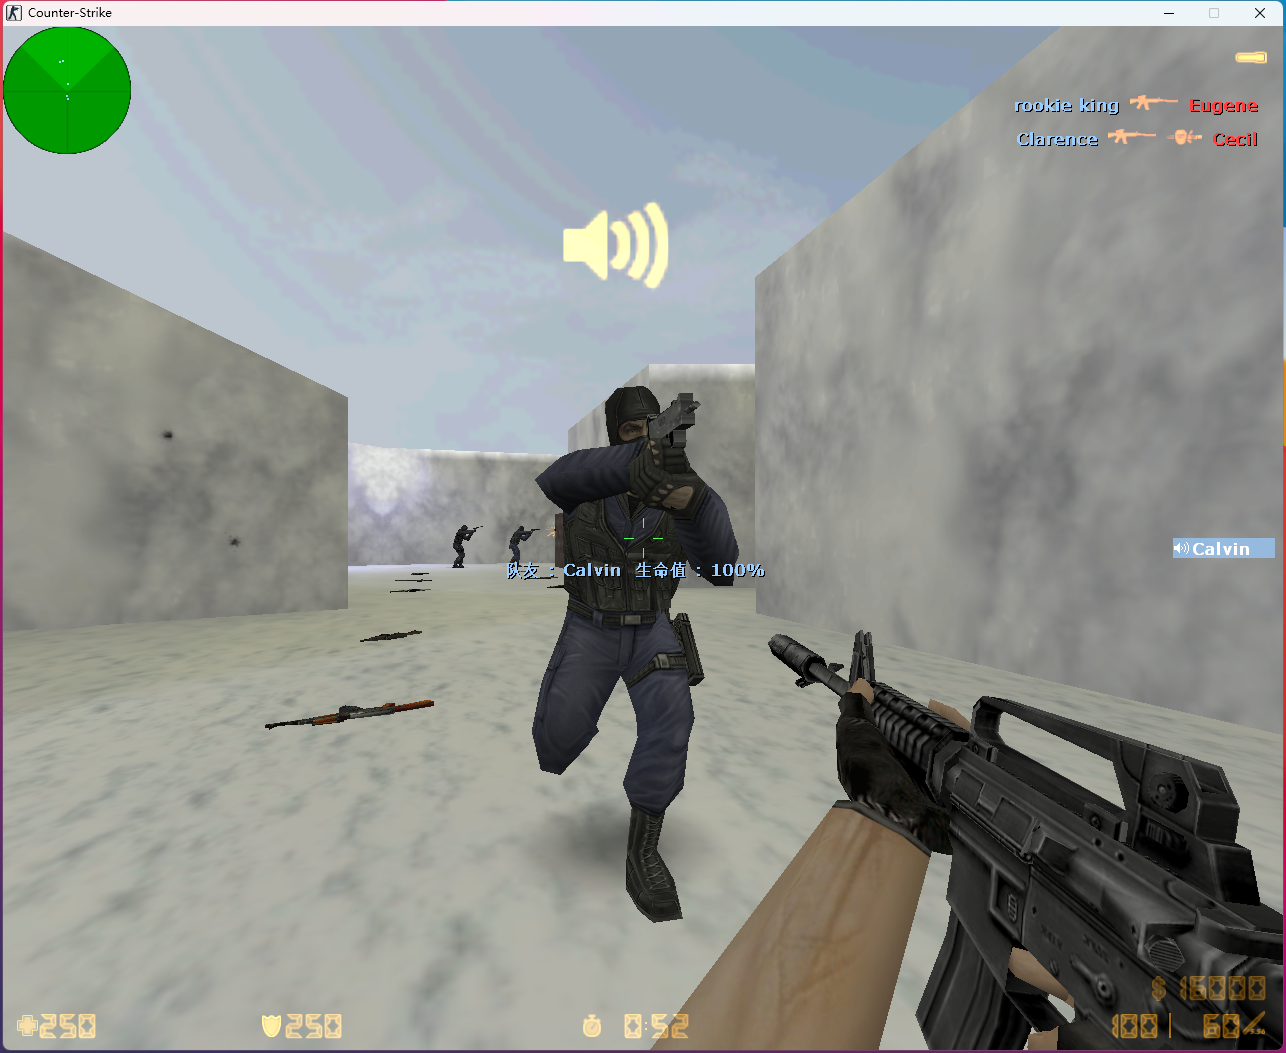C: (526, 382, 748, 922), (446, 522, 471, 573), (504, 526, 527, 571)
weapon: (263, 696, 434, 740), (362, 628, 425, 646), (382, 585, 432, 598)
